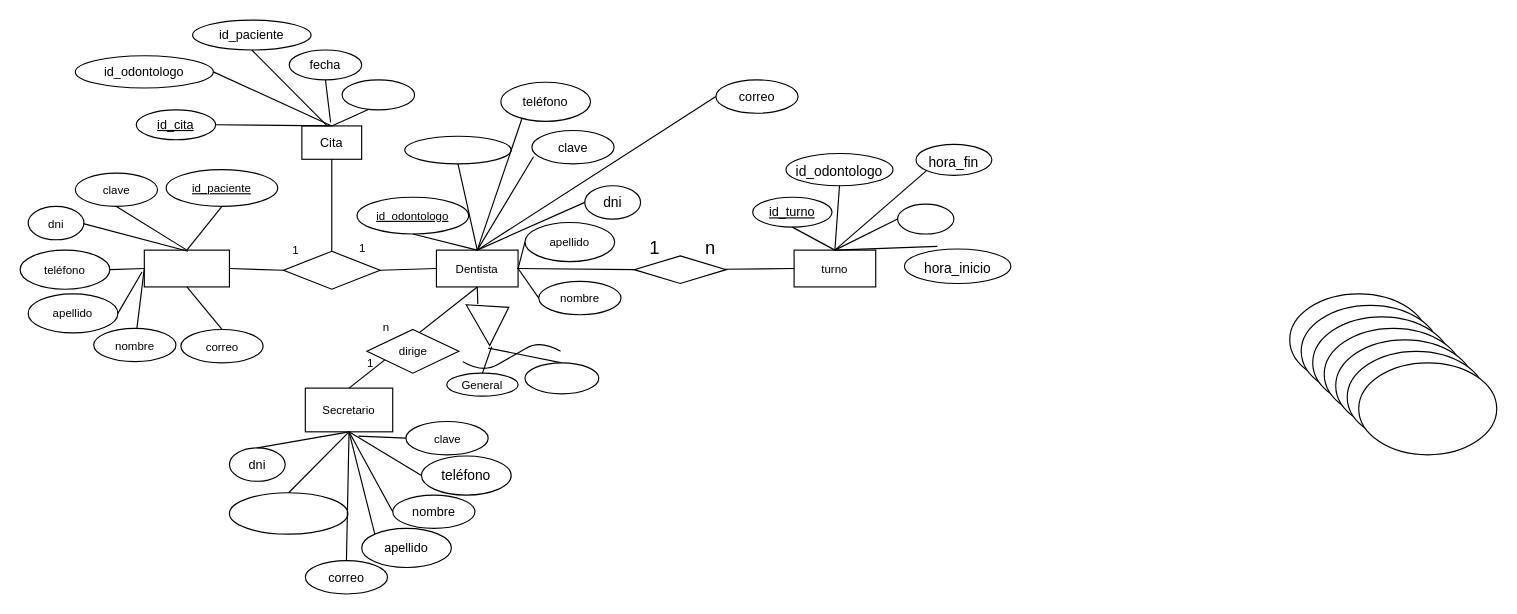
This 1517x614 diagram has some shape labels left out. The centre of each missing label's shape, as x and y in pixels:
atiende: point (331, 269)
dia: point (925, 218)
especialidad: point (493, 316)
Especialista: point (561, 378)
fecha_alta: point (457, 149)
hora: point (378, 94)
id_secretario: point (288, 513)
Paciente: point (186, 268)
Posee: point (679, 269)
